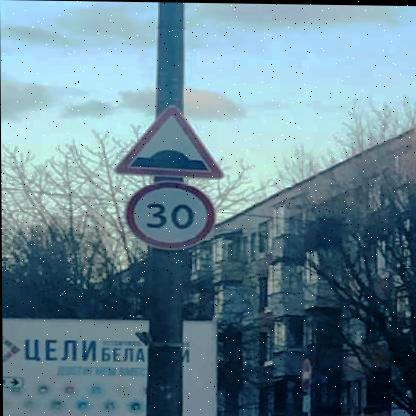Speed Limit -30-: (126, 177, 214, 249)
